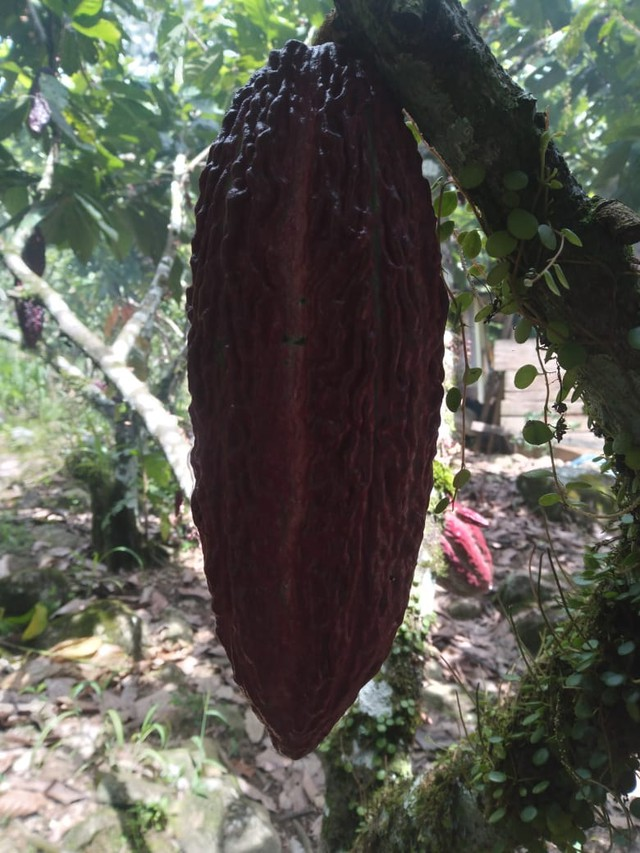Health: (164, 25, 466, 778)
